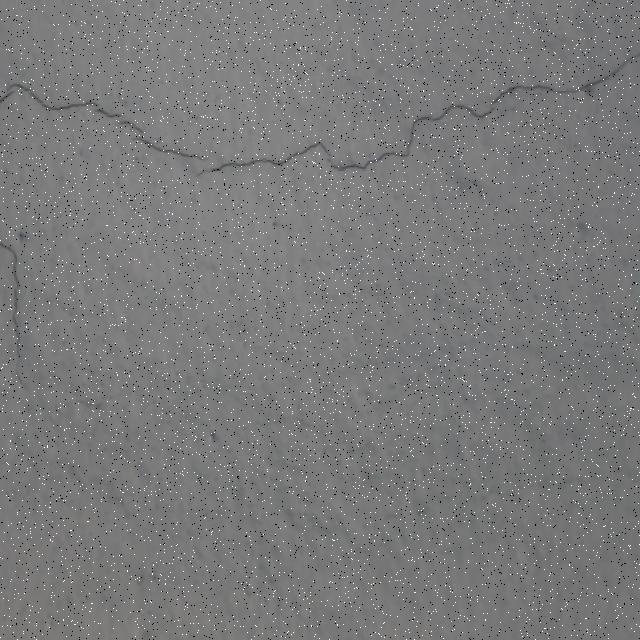minor crack: (205, 130, 439, 173), (382, 100, 503, 155), (488, 70, 625, 105), (204, 157, 259, 172), (308, 140, 336, 160), (332, 158, 372, 170)
moderate crack: (0, 237, 24, 360)
severe crack: (8, 23, 639, 362), (6, 85, 201, 160), (2, 82, 52, 107)
